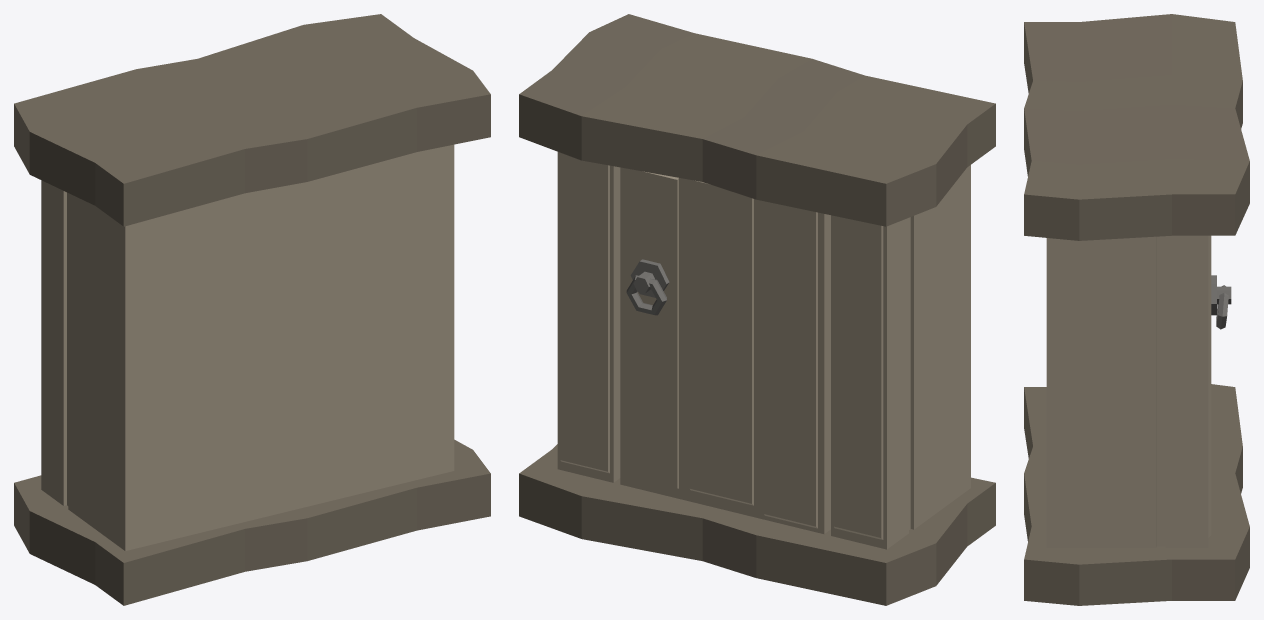
File: dresser.fbx
3 views of the same model, side by side, from view 1: azimuth 30°, elevation 25°; view 2: azimuth 150°, elevation 25°; view 3: azimuth 270°, elevation 25° (orthographic). The views are drawn at different scales.
Visible parts, largest first — view 1: dresser; view 2: dresser; view 3: dresser.
Part boxes in pixels (box(x1,y1,x2,y2)): dresser: box(14, 14, 490, 605); dresser: box(519, 14, 995, 605); dresser: box(1024, 14, 1249, 605).
Bounding box in the file's own units: 1.67 × 1.73 × 0.8579.
